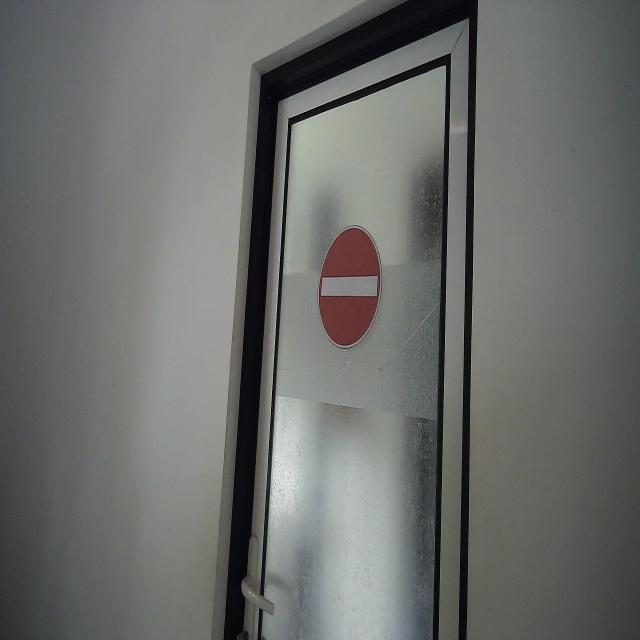no_entry: (317, 224, 383, 352)
